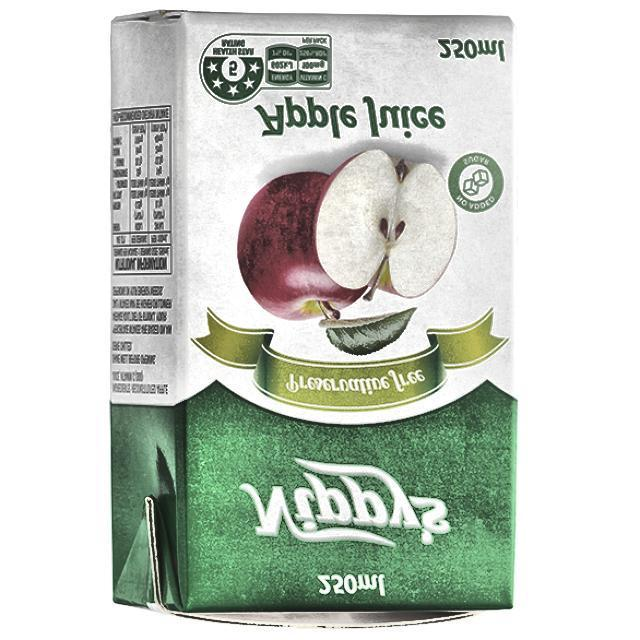cardboard: (108, 11, 519, 629)
